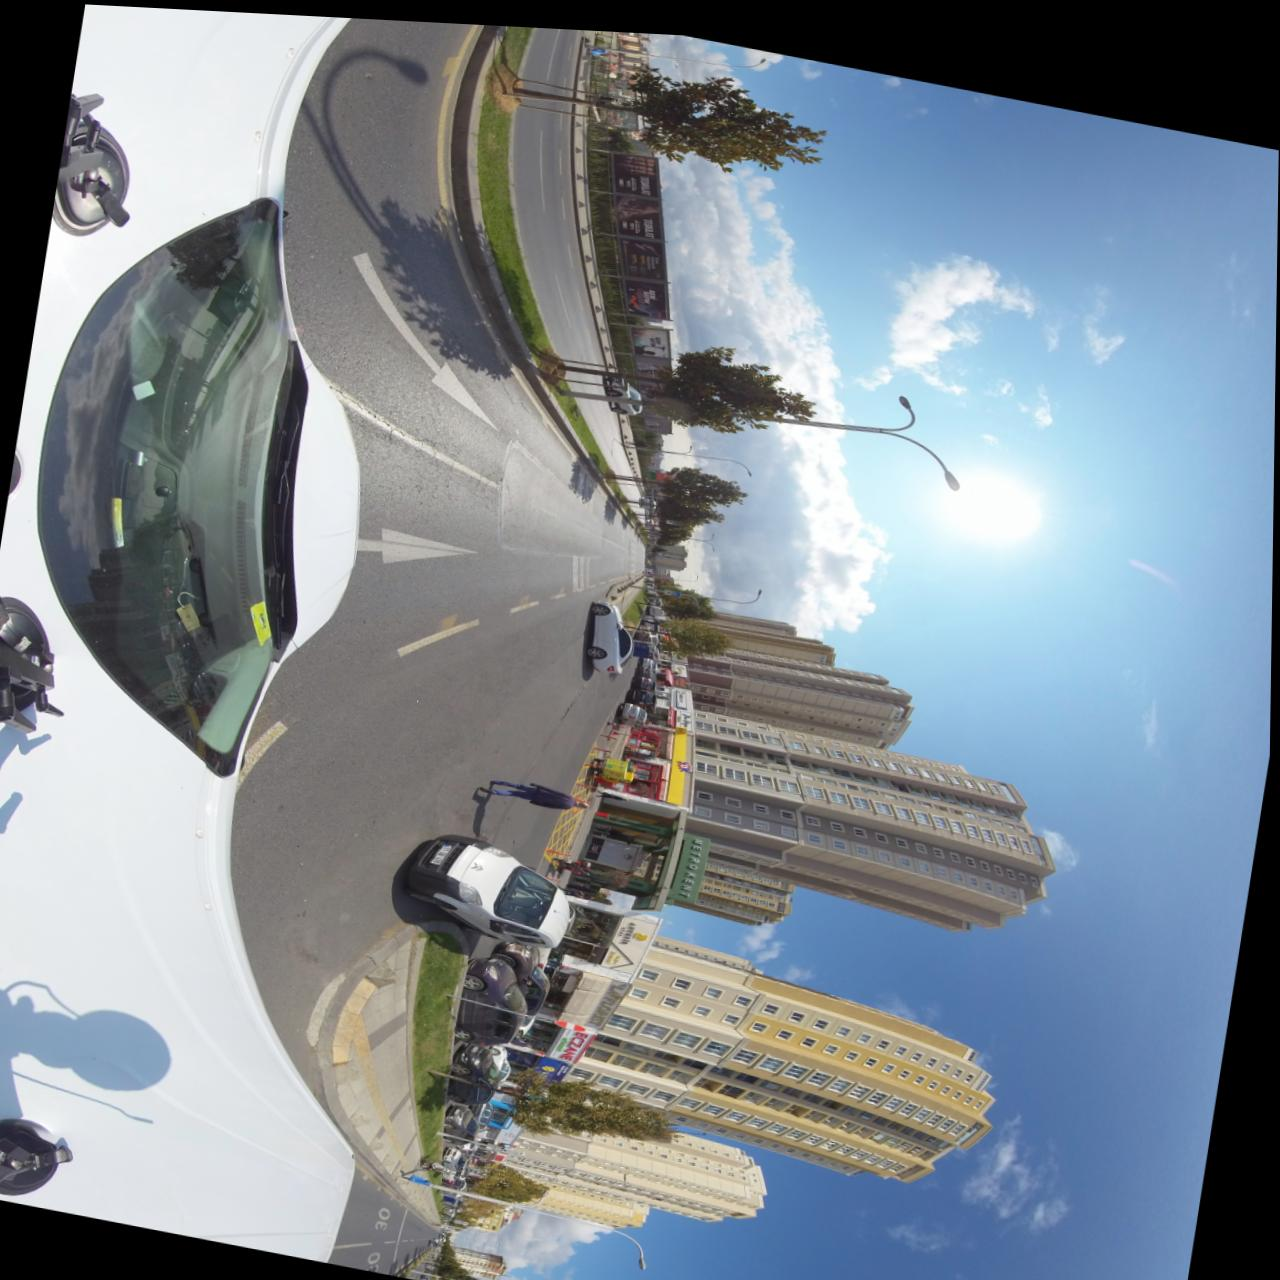SignStore: (602, 908, 659, 966), (586, 973, 632, 1023), (668, 724, 694, 798), (551, 1022, 595, 1056), (537, 1050, 563, 1068), (678, 702, 693, 721), (674, 668, 689, 681), (675, 655, 688, 669), (678, 681, 687, 700), (495, 1146, 509, 1157)
